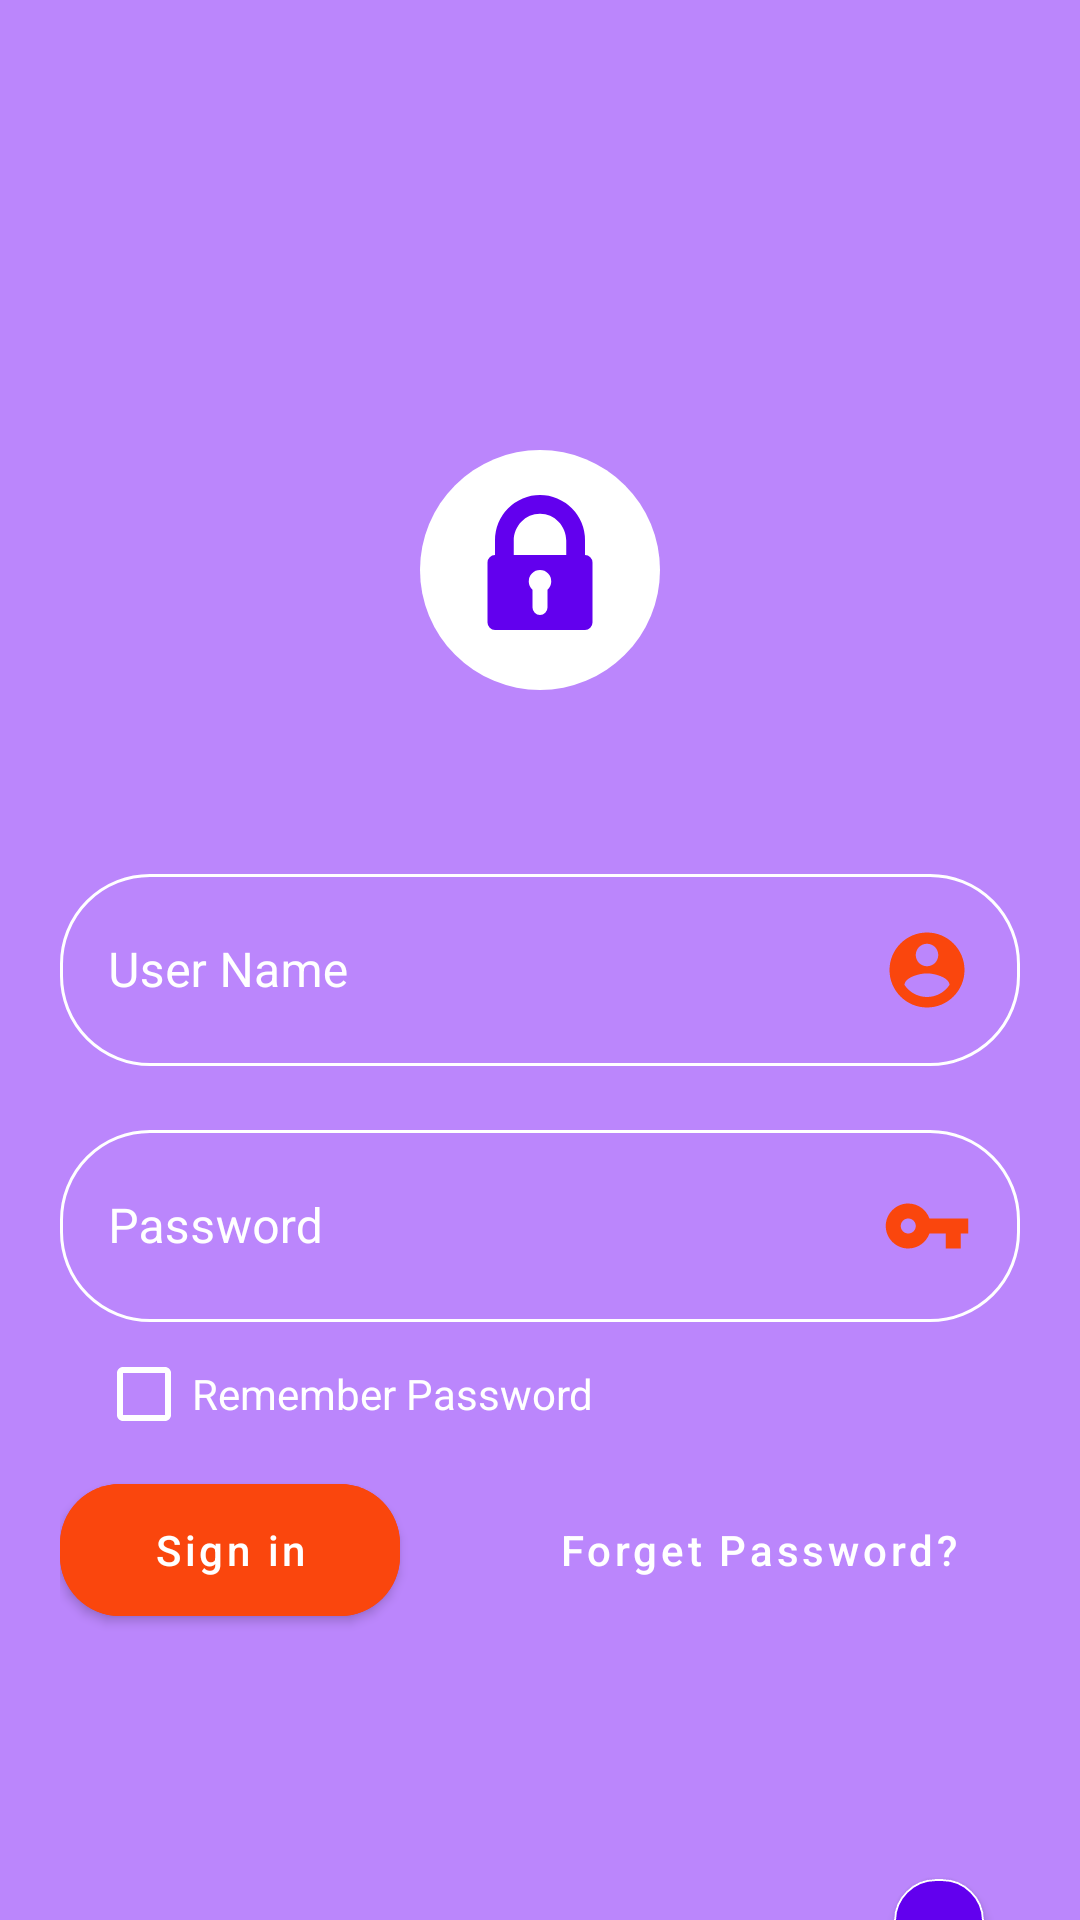

Screen size 1080px×1920px. Icon name, then its center in pixels as [x,y]:
securitybusiness: [540,570]
